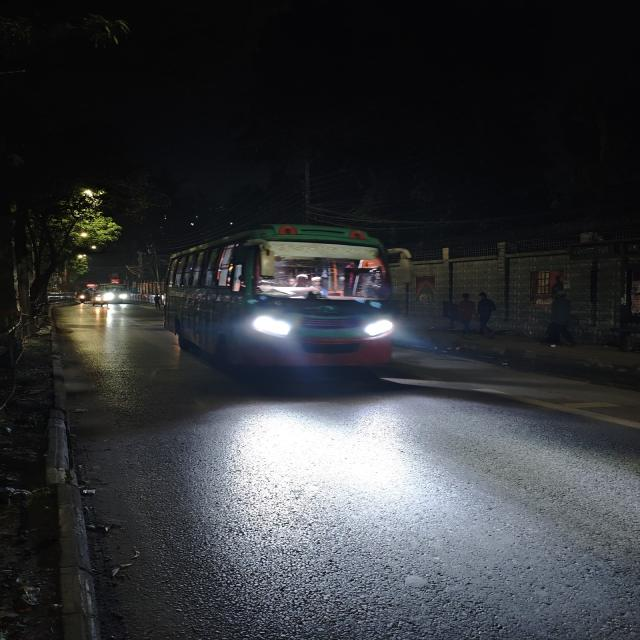bus: (160, 220, 403, 400), (103, 284, 129, 304)
cng: (90, 292, 108, 308)
pedestrian: (539, 288, 582, 349), (448, 290, 477, 336), (472, 290, 499, 336), (150, 292, 166, 312)
